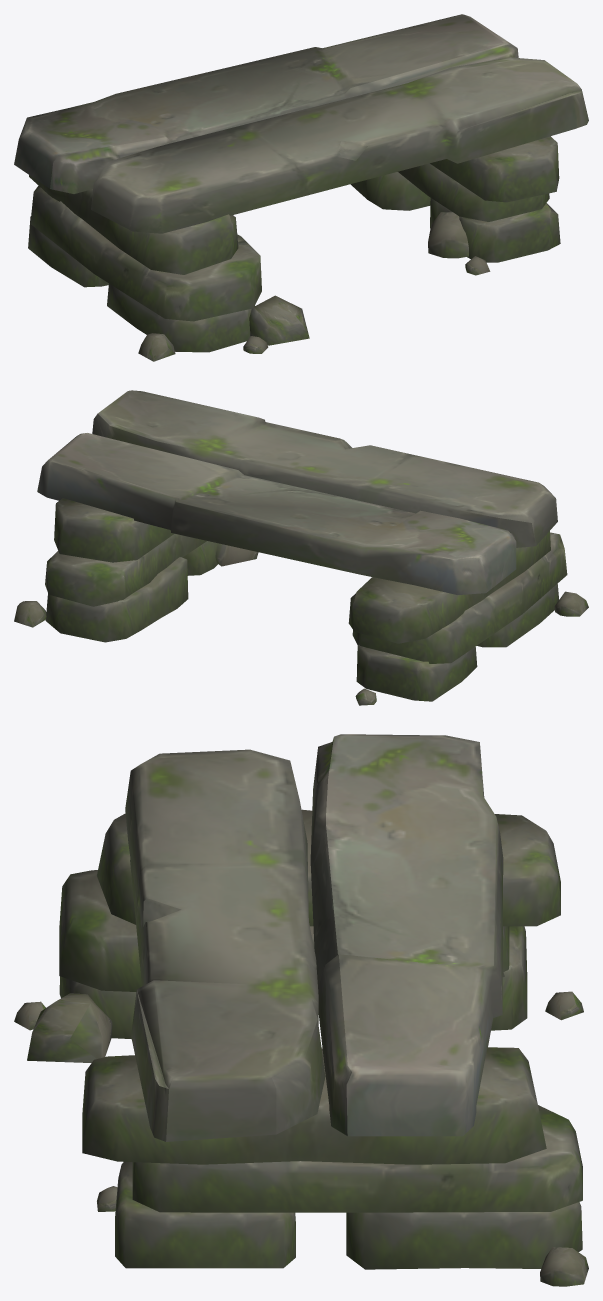
3 renders of one model, top to bottom at view 1: azimuth 30°, elevation 25°; view 2: azimuth 150°, elevation 25°; view 3: azimuth 270°, elevation 25°, orthographic. The views are drawn at different scales.
Visible parts, largest first — view 1: wq_wj012_01; view 2: wq_wj012_01; view 3: wq_wj012_01.
Part boxes in pixels (x1,y1,x2,y2): wq_wj012_01: (14,14,588,361); wq_wj012_01: (14,390,588,705); wq_wj012_01: (14,734,588,1286).
Bounding box in the file's own units: 296 × 86.51 × 202.
1 material, 1 textured.
